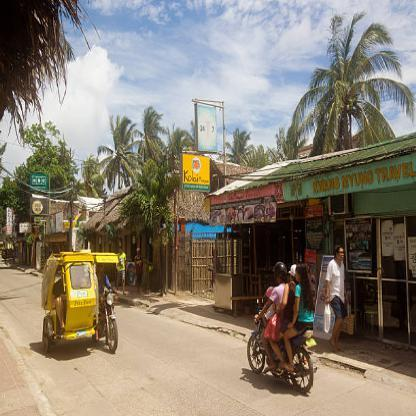Motorcycle: (242, 294, 317, 399)
